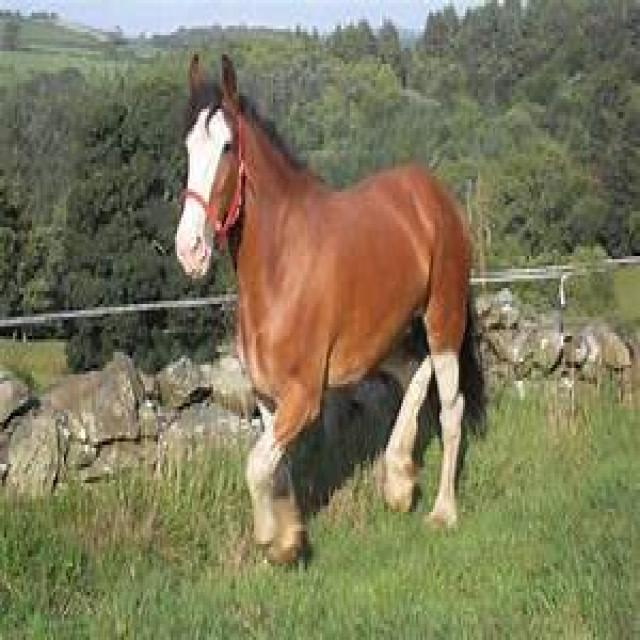animal: (128, 63, 508, 549)
